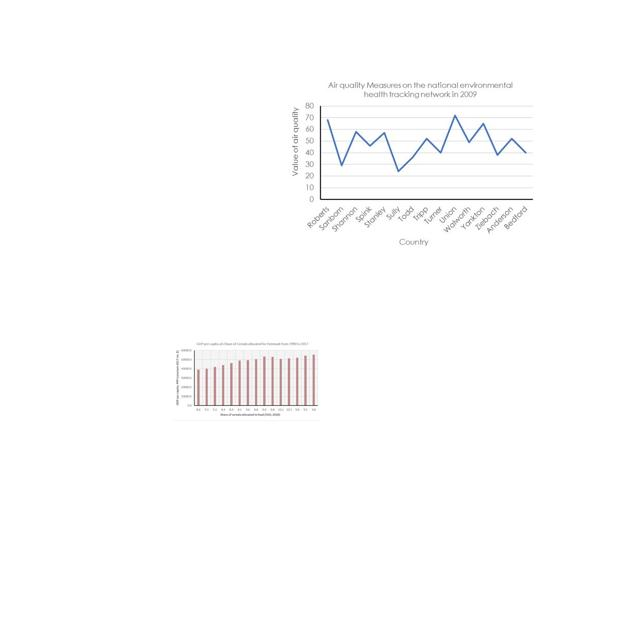Graph: (289, 75, 537, 251), (173, 340, 321, 421)
